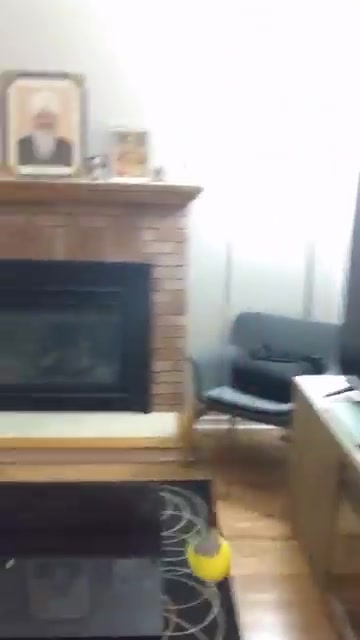tennis_ball: (183, 525, 236, 588)
